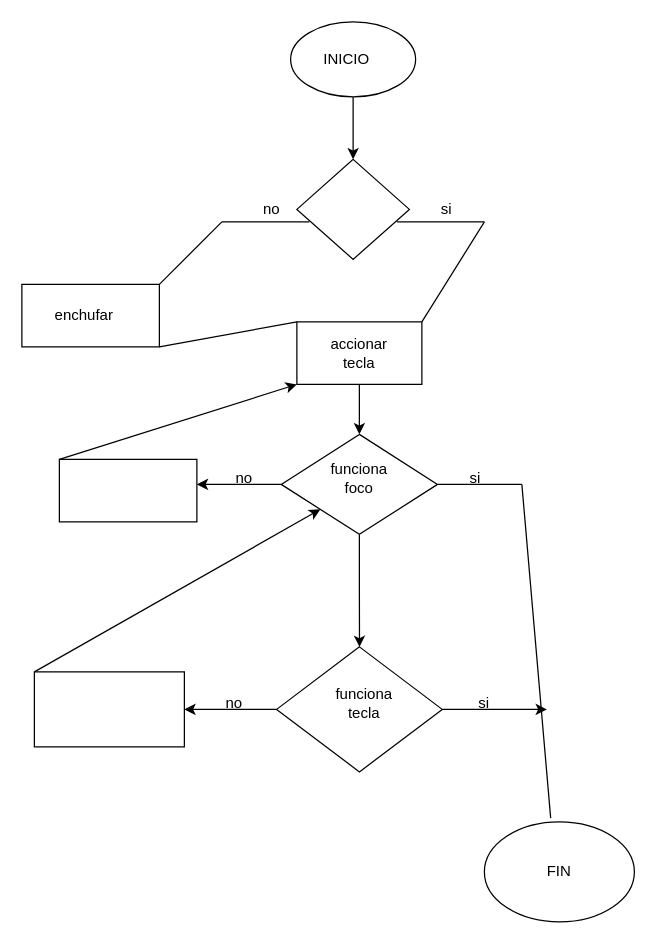
The diagram is 656 pixels wide and 944 high, and some of its shapes have lost their labels. The shapes that lost their labels are listed below. From the top down, each one's centre as x and y in pixels, then its label:
At (352,208): "esta enchufada".
At (127,490): "cambiar foco".
At (108,709): "cambiar tecla".
